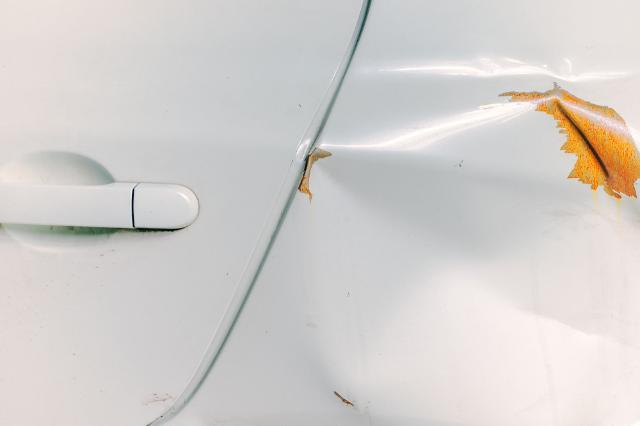dent: (301, 38, 640, 426)
